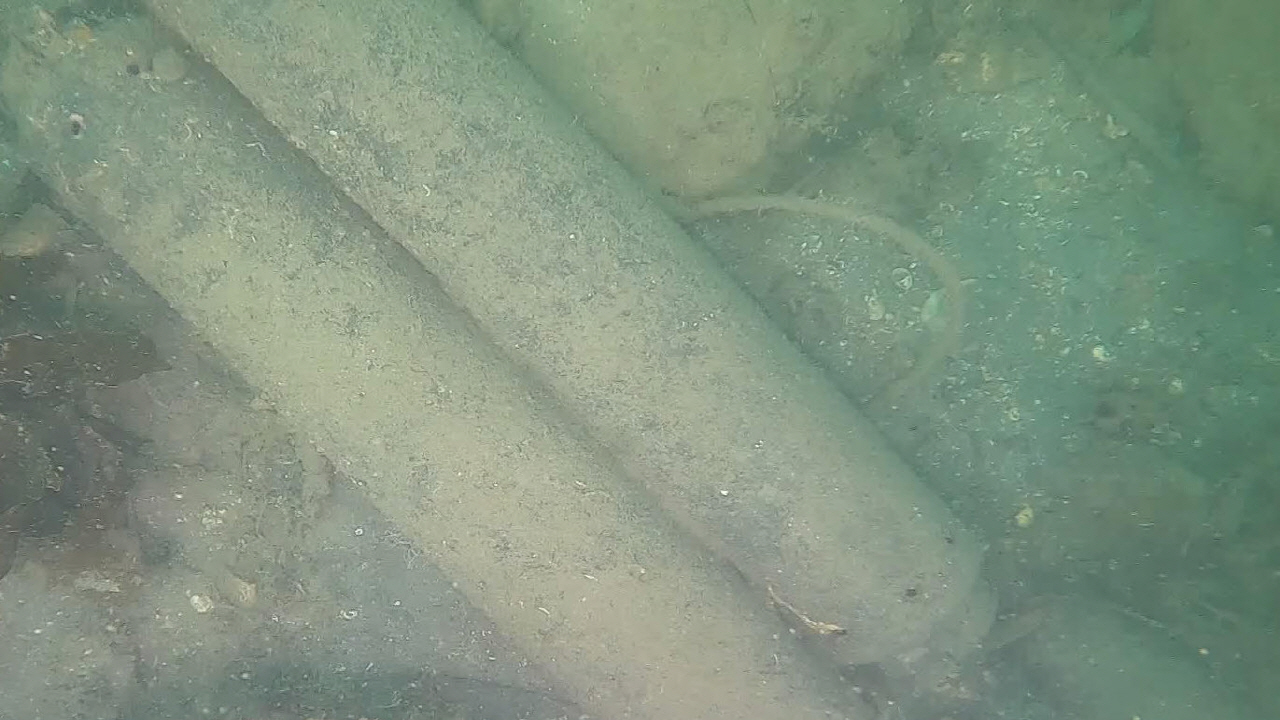eel fish trap: (14, 12, 883, 720), (143, 0, 998, 693)
rope: (670, 189, 967, 417)
